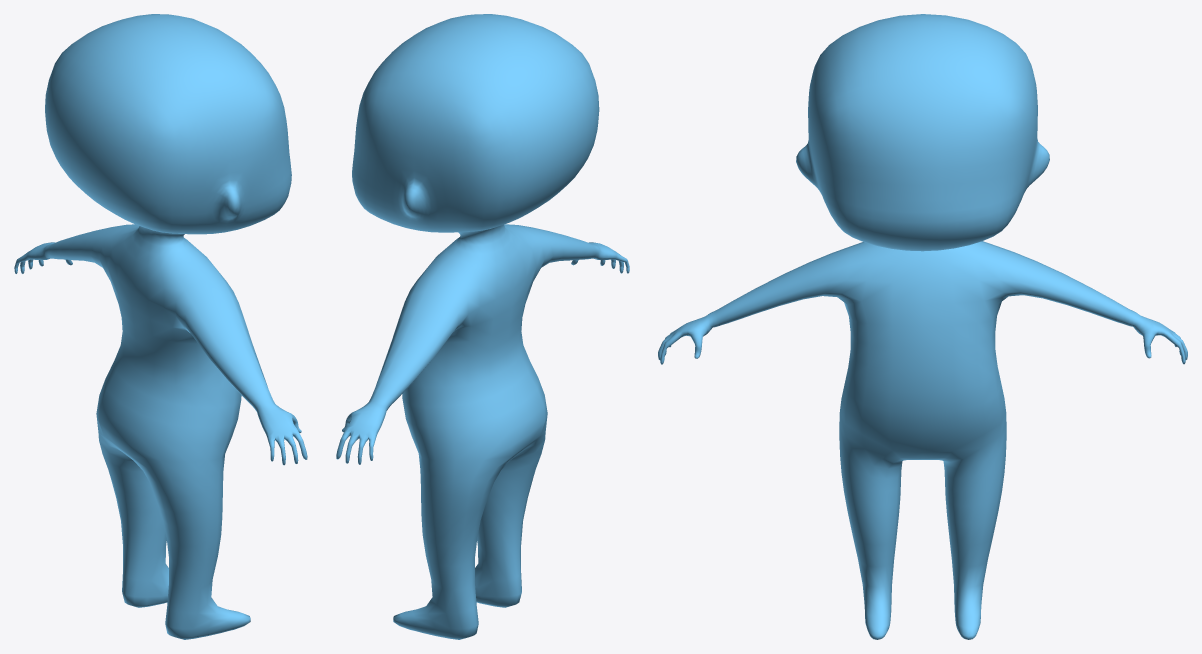
File: chibichac.fbx
The picture shows the model from 3 angles, left to right: view 1: azimuth 30°, elevation 25°; view 2: azimuth 150°, elevation 25°; view 3: azimuth 270°, elevation 25°; orthographic projection.
Visible parts, largest first — view 1: chibichac; view 2: chibichac; view 3: chibichac.
Boxes of the visible parts, x1,y1,x2,y2 form: chibichac: (14, 14, 307, 639); chibichac: (336, 14, 629, 639); chibichac: (658, 14, 1187, 639).
Bounding box in the file's own units: 57.44 × 157 × 129.
